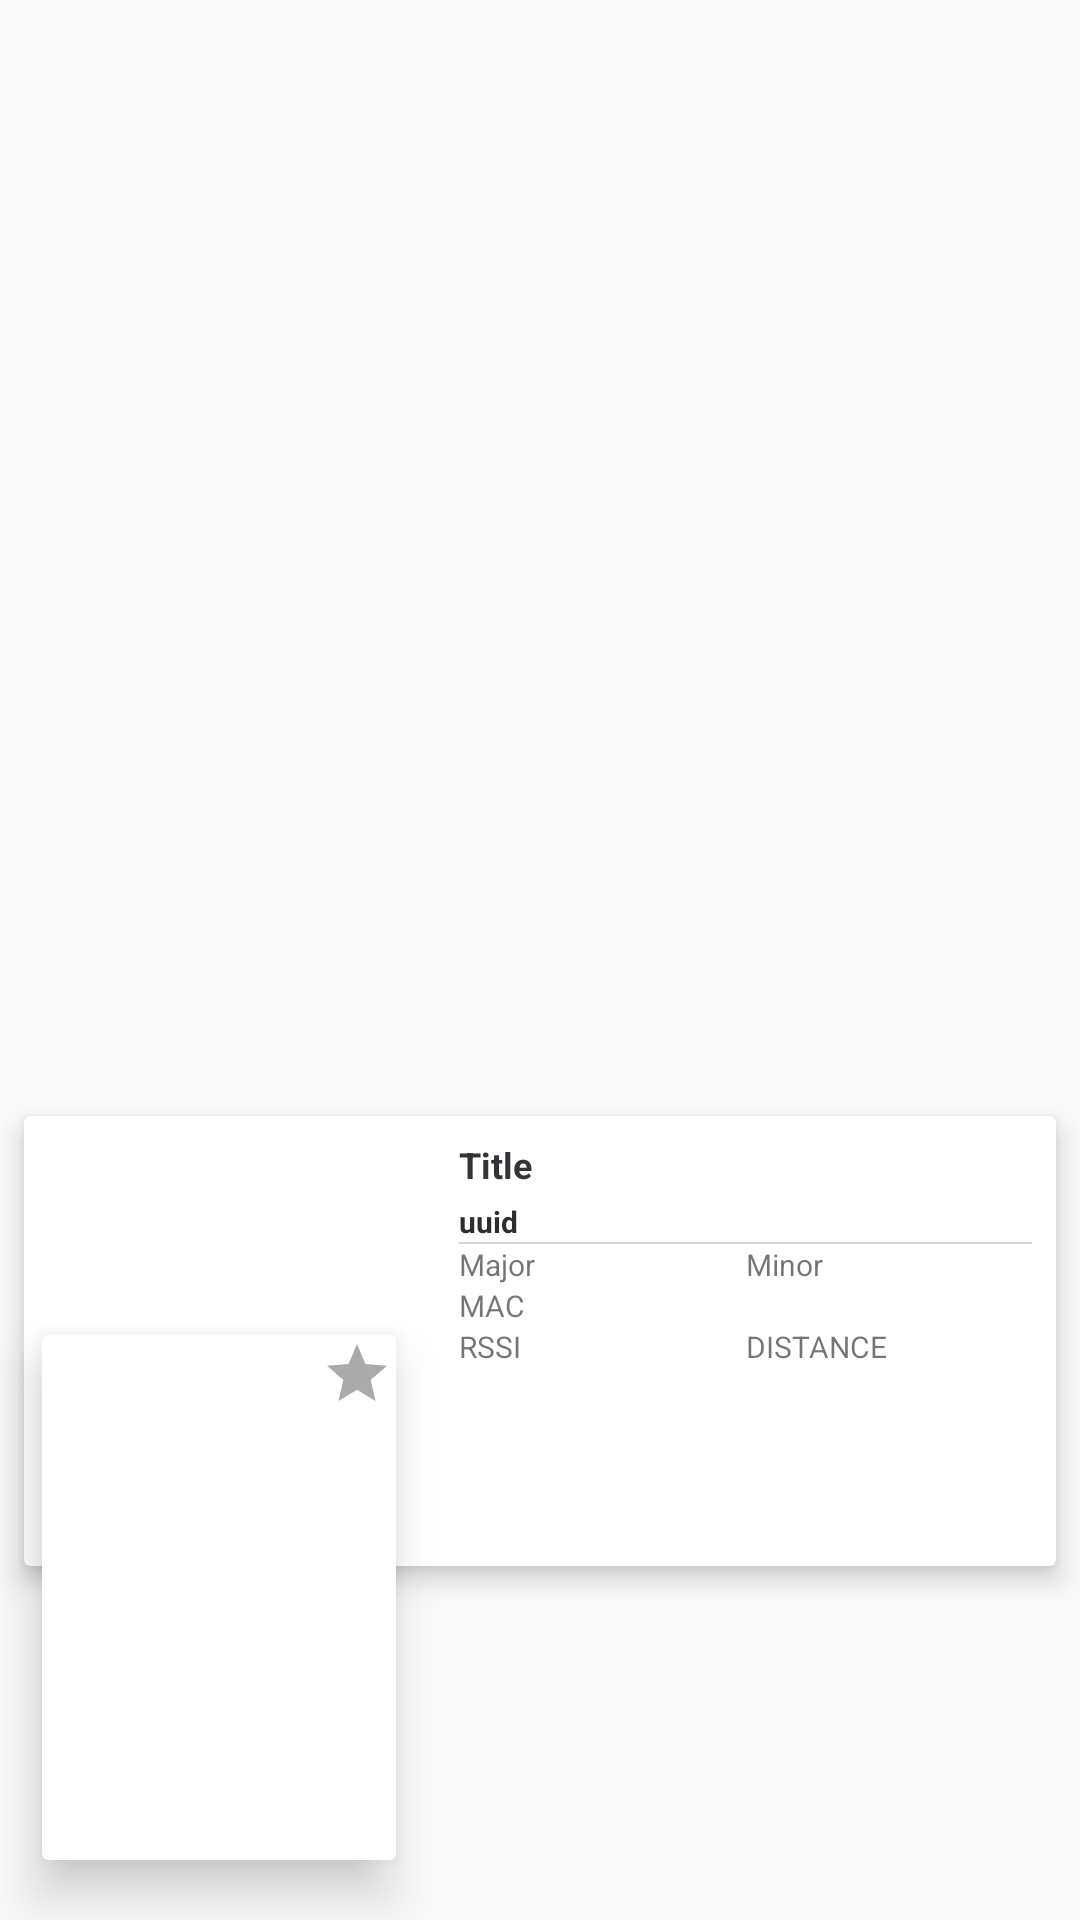

Named icons in this screenshot (1080w x 1920h) and their bounding boxes, (x1, y1, x2, y2):
star: (328, 1345, 386, 1401)
